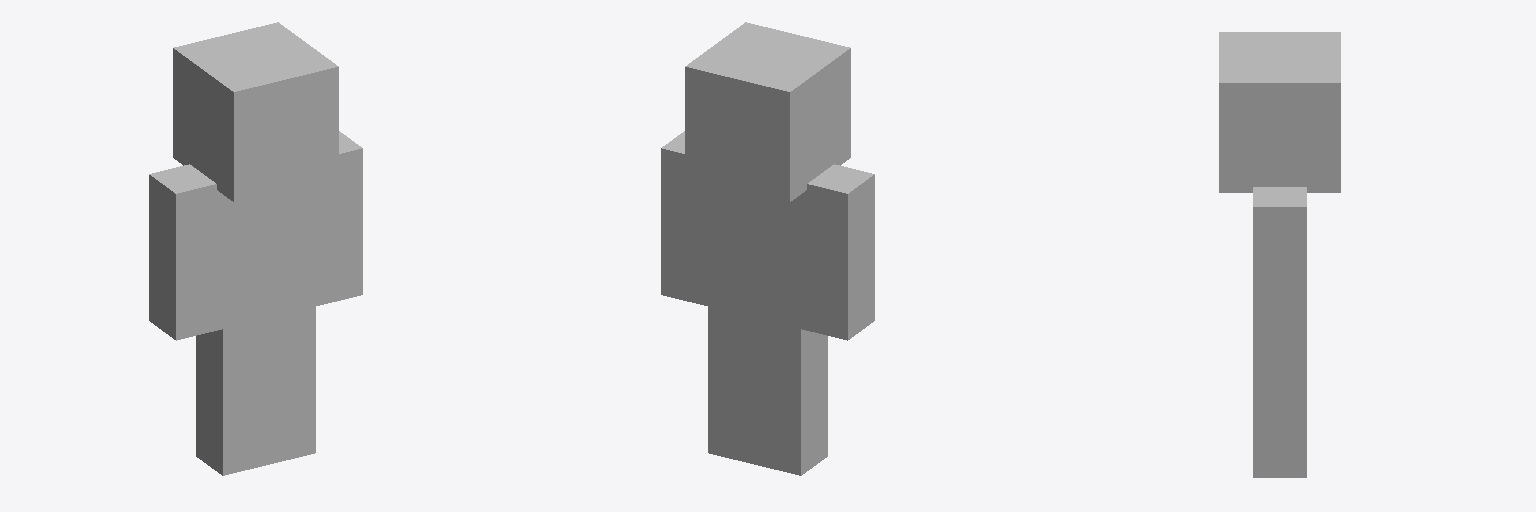
The model's file is king_zombie.obj.
3 views of the same model, side by side, from view 1: azimuth 30°, elevation 25°; view 2: azimuth 150°, elevation 25°; view 3: azimuth 270°, elevation 25° (orthographic).
Parts seen in each view (by area): view 1: headwear, left_arm, body, left_leg, right_leg, right_arm; view 2: headwear, left_arm, body, left_leg, right_leg, right_arm; view 3: headwear, right_arm, right_leg.
Boxes of the visible parts, box(x1,y1,x2,y2) form: headwear: box(173, 22, 338, 201); left_arm: box(149, 164, 222, 340); body: box(223, 182, 315, 328); left_leg: box(196, 318, 268, 475); right_leg: box(269, 307, 315, 464); right_arm: box(316, 131, 362, 305); headwear: box(685, 22, 850, 201); left_arm: box(801, 164, 874, 340); body: box(708, 182, 800, 328); left_leg: box(755, 318, 827, 475); right_leg: box(708, 307, 754, 464); right_arm: box(661, 131, 707, 305); headwear: box(1219, 32, 1340, 192); right_arm: box(1253, 187, 1306, 353); right_leg: box(1253, 354, 1306, 477).
Bounding box in the file's own units: 1 × 2.03 × 0.5625.